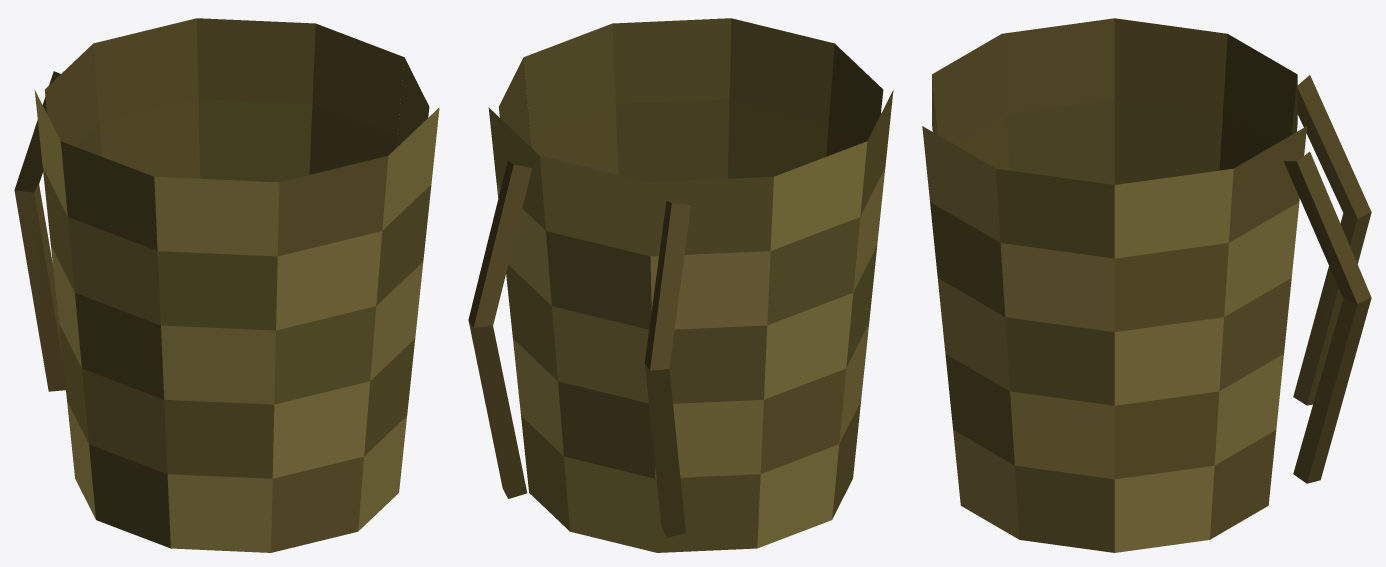
File: bag_basket.glb
The picture shows the model from 3 angles, left to right: view 1: azimuth 30°, elevation 25°; view 2: azimuth 150°, elevation 25°; view 3: azimuth 270°, elevation 25°; orthographic projection.
Parts seen in each view (by area): view 1: bag_basket_solid; view 2: bag_basket_solid; view 3: bag_basket_solid.
Boxes of the visible parts, box(x1,y1,x2,y2) form: bag_basket_solid: box(14, 18, 439, 552); bag_basket_solid: box(468, 18, 893, 552); bag_basket_solid: box(922, 18, 1371, 552).
Size of the model in its own units: 0.4 by 0.42 by 0.4442.
